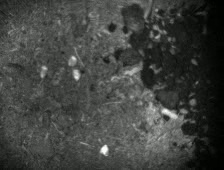corn: (37, 63, 50, 81), (66, 53, 79, 69), (70, 67, 83, 82), (98, 142, 111, 157)
